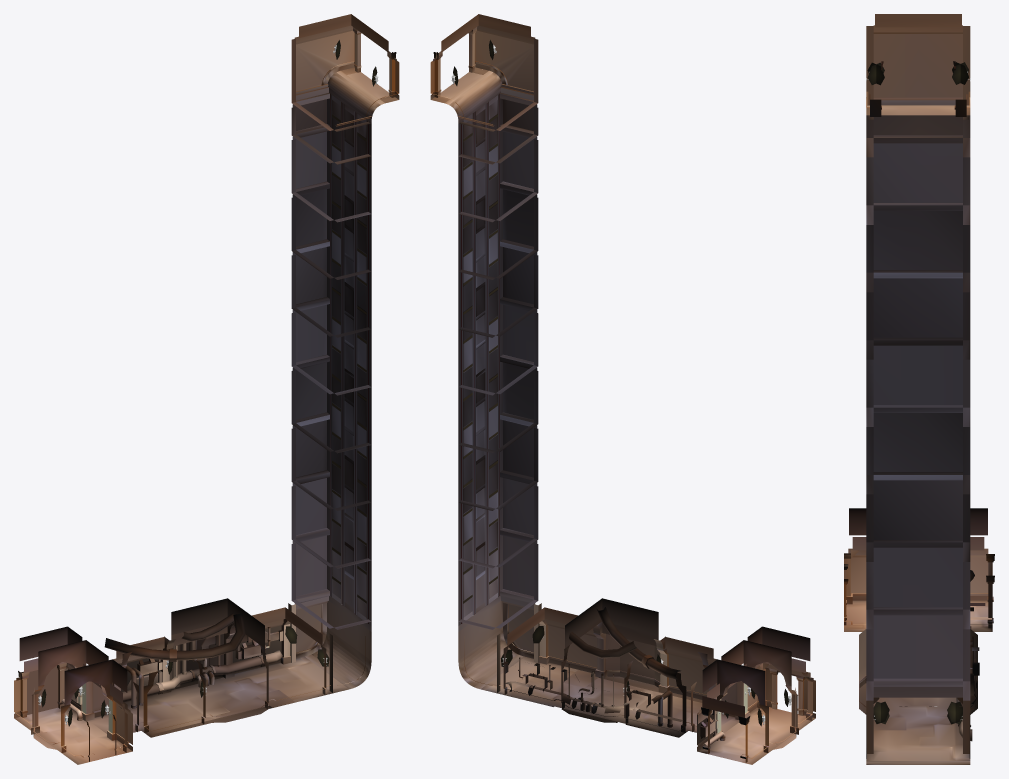
File: 09Elevator.gltf
3 renders of one model, left to right at view 1: azimuth 30°, elevation 25°; view 2: azimuth 150°, elevation 25°; view 3: azimuth 270°, elevation 25°, orthographic. The views are drawn at different scales.
Visible parts, largest first — view 1: stg031_o25_Mesh_0015, stg031_o25_Mesh_0052, stg031_o25_Mesh_0057, stg031_o25_Mesh_0053, stg031_o25_Mesh_0012, stg031_o25_Mesh_0044, stg031_o25_Mesh_0060, stg031_o25_Mesh_0050, stg031_g25_Mesh_0000, stg031_o25_Mesh_0035, stg031_o25_Mesh_0029, stg031_o25_Mesh_0061 (+9 smaller); view 2: stg031_o25_Mesh_0052, stg031_o25_Mesh_0015, stg031_o25_Mesh_0057, stg031_o25_Mesh_0053, stg031_o25_Mesh_0012, stg031_o25_Mesh_0050, stg031_o25_Mesh_0044, stg031_o25_Mesh_0060, stg031_o25_Mesh_0035, stg031_g25_Mesh_0000, stg031_o25_Mesh_0029, stg031_o25_Mesh_0061 (+8 smaller); view 3: stg031_o25_Mesh_0020, stg031_o25_Mesh_0057, stg031_o25_Mesh_0060, stg031_o25_Mesh_0015, stg031_o25_Mesh_0029, stg031_o25_Mesh_0035, stg031_o25_Mesh_0068, stg031_g25_Mesh_0000, stg031_o25_Mesh_0047, stg031_o25_Mesh_0050, stg031_o25_Mesh_0069, stg031_o25_Mesh_0044 (+6 smaller).
Part boxes in pixels (<box>): stg031_o25_Mesh_0015: <box>16,25,398,736</box>; stg031_o25_Mesh_0052: <box>19,100,322,692</box>; stg031_o25_Mesh_0057: <box>288,38,384,692</box>; stg031_o25_Mesh_0053: <box>171,77,374,658</box>; stg031_o25_Mesh_0012: <box>72,94,368,720</box>; stg031_o25_Mesh_0044: <box>27,624,342,761</box>; stg031_o25_Mesh_0060: <box>31,625,304,748</box>; stg031_o25_Mesh_0050: <box>14,30,399,744</box>; stg031_g25_Mesh_0000: <box>41,40,377,726</box>; stg031_o25_Mesh_0035: <box>24,20,388,703</box>; stg031_o25_Mesh_0029: <box>14,33,399,751</box>; stg031_o25_Mesh_0061: <box>28,637,367,749</box>; stg031_o25_Mesh_0052: <box>507,100,810,692</box>; stg031_o25_Mesh_0015: <box>431,25,813,747</box>; stg031_o25_Mesh_0057: <box>445,38,541,692</box>; stg031_o25_Mesh_0053: <box>455,77,658,658</box>; stg031_o25_Mesh_0012: <box>461,94,725,741</box>; stg031_o25_Mesh_0050: <box>430,30,815,711</box>; stg031_o25_Mesh_0044: <box>487,622,812,761</box>; stg031_o25_Mesh_0060: <box>488,671,765,756</box>; stg031_o25_Mesh_0035: <box>441,20,805,717</box>; stg031_g25_Mesh_0000: <box>453,40,788,726</box>; stg031_o25_Mesh_0029: <box>430,33,815,751</box>; stg031_o25_Mesh_0061: <box>462,637,771,757</box>; stg031_o25_Mesh_0020: <box>873,34,979,709</box>; stg031_o25_Mesh_0057: <box>866,26,970,763</box>; stg031_o25_Mesh_0060: <box>865,606,990,757</box>; stg031_o25_Mesh_0015: <box>848,25,991,764</box>; stg031_o25_Mesh_0029: <box>852,110,988,749</box>; stg031_o25_Mesh_0035: <box>852,20,984,697</box>; stg031_o25_Mesh_0068: <box>844,600,988,760</box>; stg031_g25_Mesh_0000: <box>867,62,968,724</box>; stg031_o25_Mesh_0047: <box>852,14,984,690</box>; stg031_o25_Mesh_0050: <box>851,557,988,593</box>; stg031_o25_Mesh_0069: <box>844,107,988,760</box>; stg031_o25_Mesh_0044: <box>844,558,988,760</box>.
Size of the model in its own units: 61.61 by 110 by 20.3.
